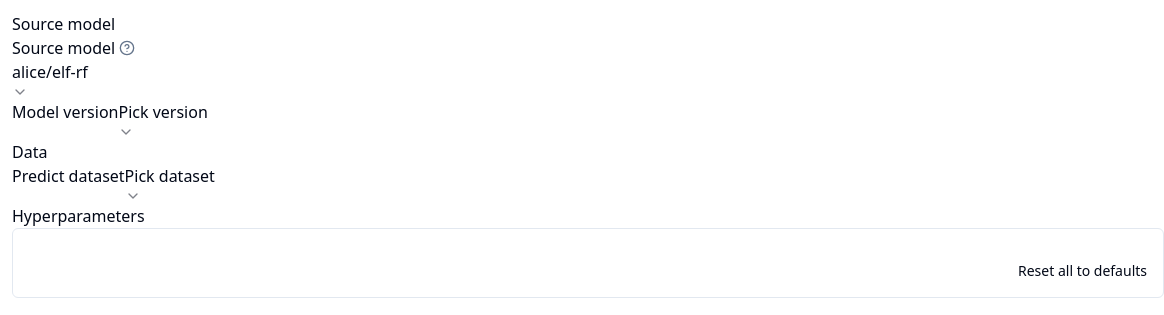
Test: InferenceSubForm › disables model versions whose training detector version was retired (§10 #22)
The image size is (1164, 315).
Click the dropdown named "model version".
click(163, 120)  # box [118,100,208,140]
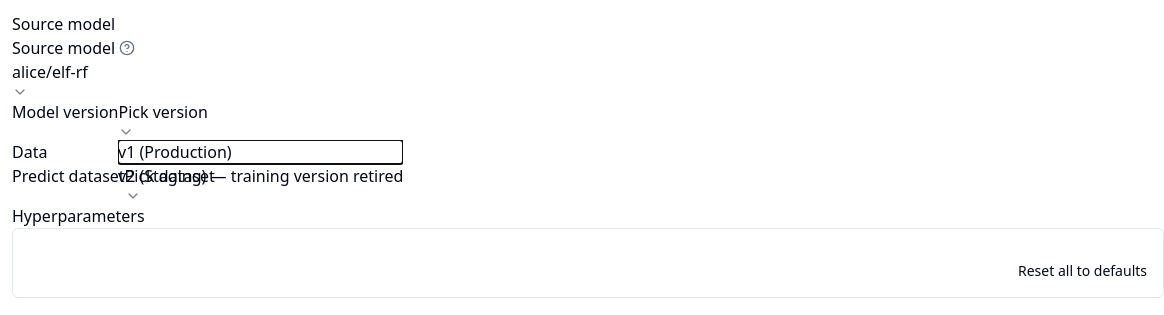
Check: the text "v2 (Staging) — training version retired" is shown, box [118,165,403,187]
